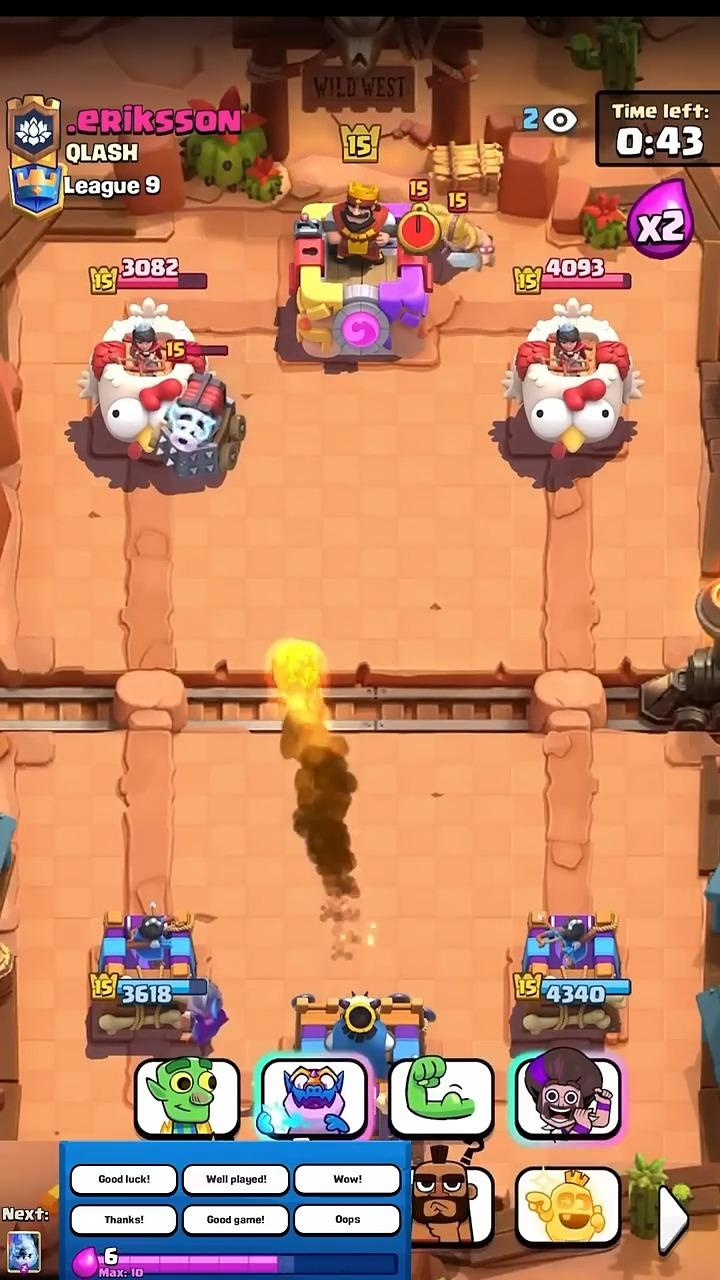elite barbarians: (430, 206, 493, 271)
fireball: (270, 638, 356, 896)
musketeer: (188, 980, 227, 1047)
sparky: (156, 372, 245, 482)
